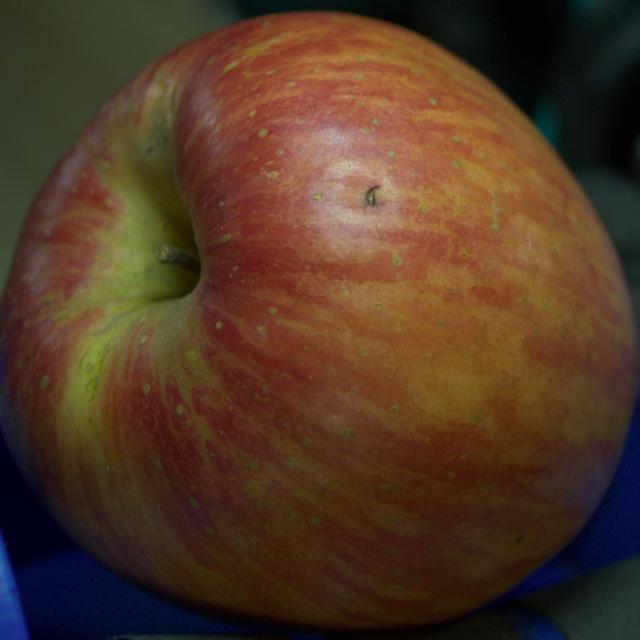apple: (0, 12, 638, 629)
pest: (366, 186, 380, 204)
